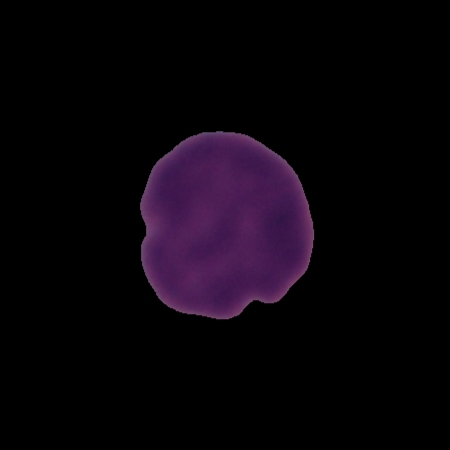HEM: (135, 127, 317, 322)
